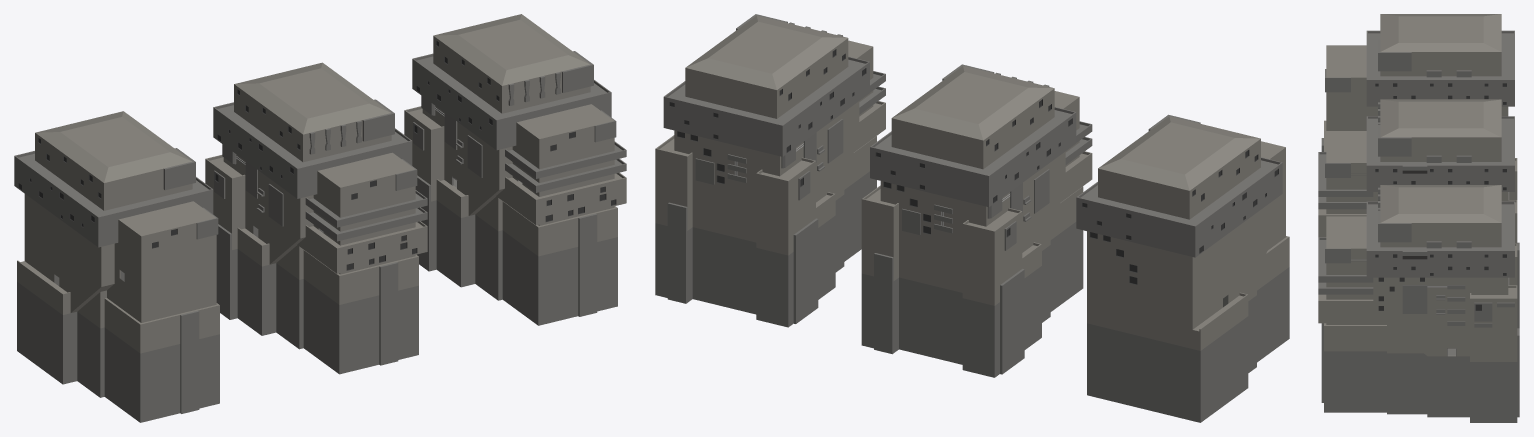
The model's file is OB_High-rise_Bilding_#1.fbx.
3 views of the same model, side by side, from view 1: azimuth 30°, elevation 25°; view 2: azimuth 150°, elevation 25°; view 3: azimuth 270°, elevation 25° (orthographic). The views are drawn at different scales.
Parts seen in each view (by area): view 1: Model_1, Model_0, Model_Skybox; view 2: Model_1, Model_0, Model_Skybox; view 3: Model_0, Model_1, Model_Skybox.
Part boxes in pixels (x1,y1,x2,y2): Model_1: (205,62,427,374); Model_0: (404,14,626,325); Model_Skybox: (14,111,219,422); Model_1: (861,64,1092,377); Model_0: (655,14,885,327); Model_Skybox: (1076,114,1289,422); Model_0: (1318,185,1519,422); Model_1: (1318,99,1519,328); Model_Skybox: (1321,14,1514,151).
Bounding box in the file's own units: 23600 × 9600 × 8950.
